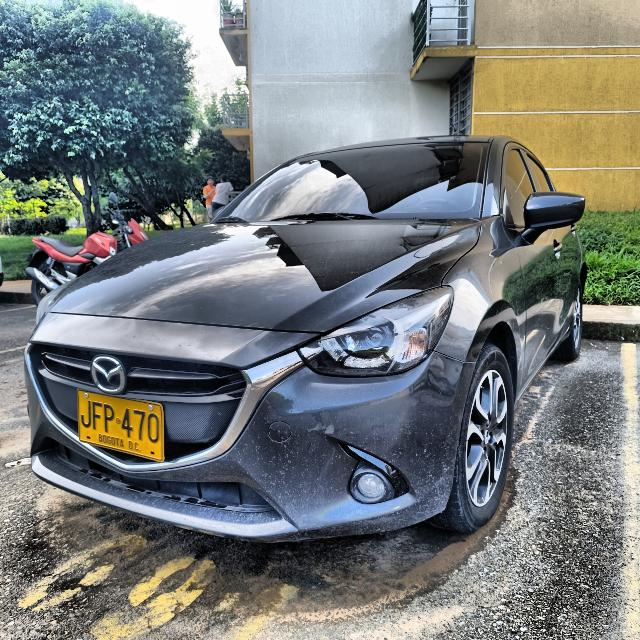plate: (78, 390, 162, 460)
